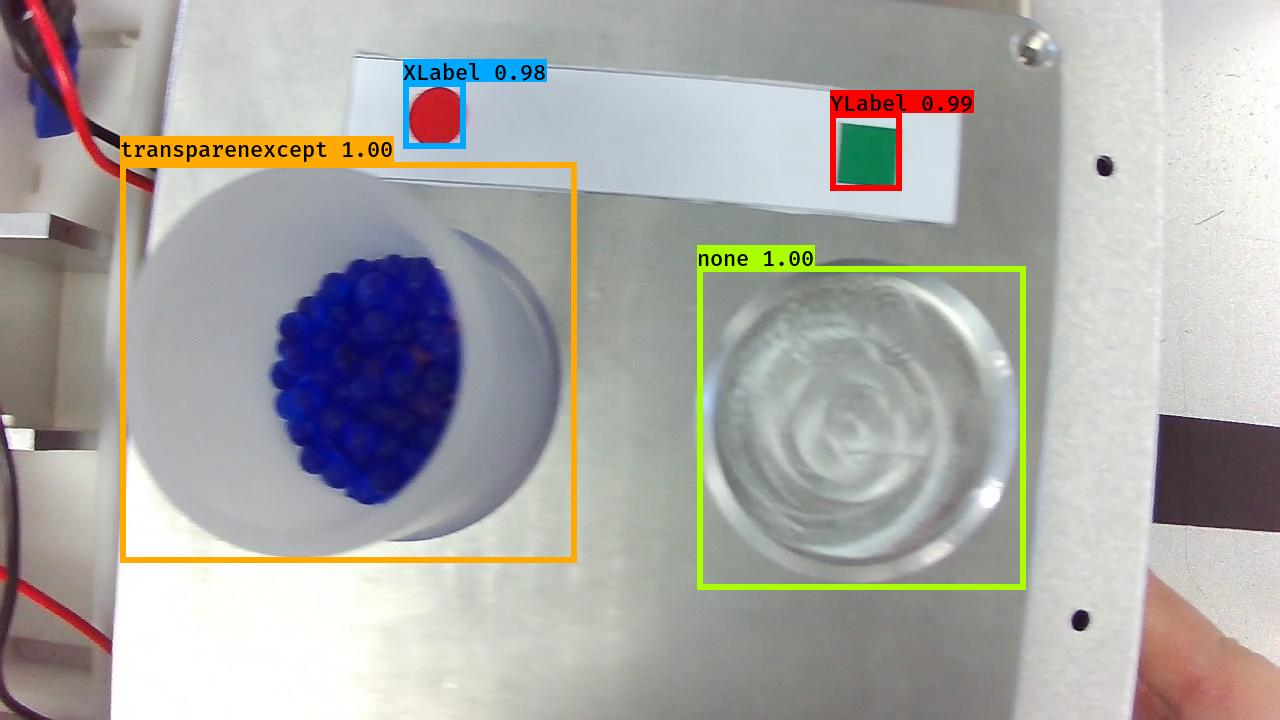XLabel: (403, 79, 470, 147)
YLabel: (831, 116, 911, 191)
none: (681, 249, 1027, 594)
transparenexcept: (99, 156, 572, 565)
